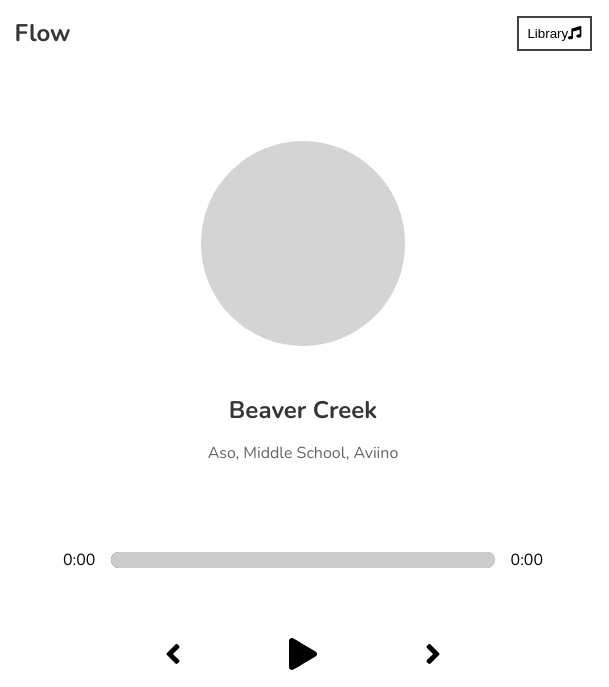
main page › should play next song by clicking on right angle button
Click the 5th picture at coordinates (433, 654), box [425, 638, 441, 670]
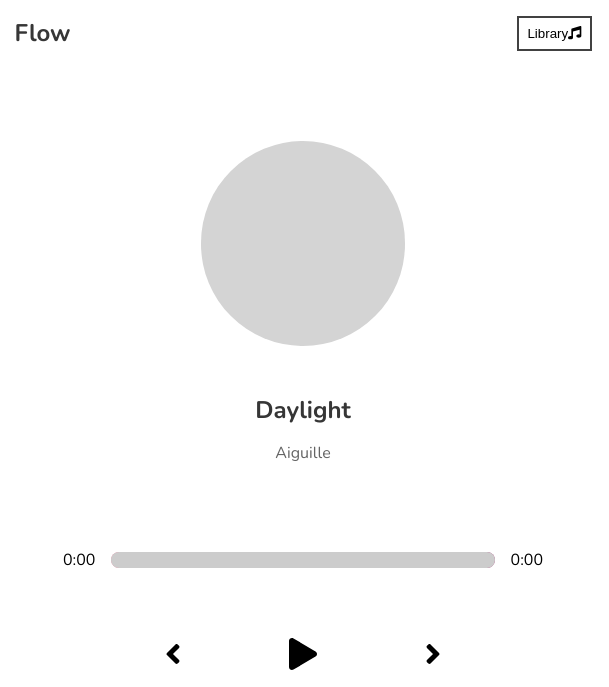
Result: the heading "Aiguille" is shown at [275, 442, 331, 464]
